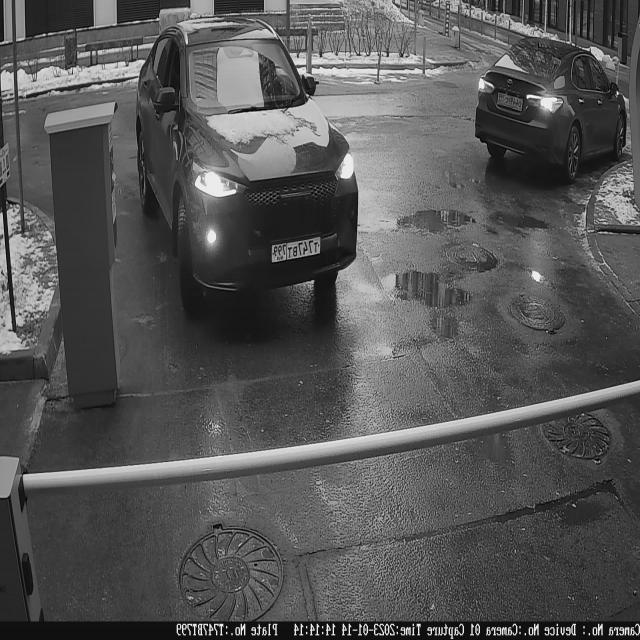car-plate-numbers: (270, 233, 324, 271)
